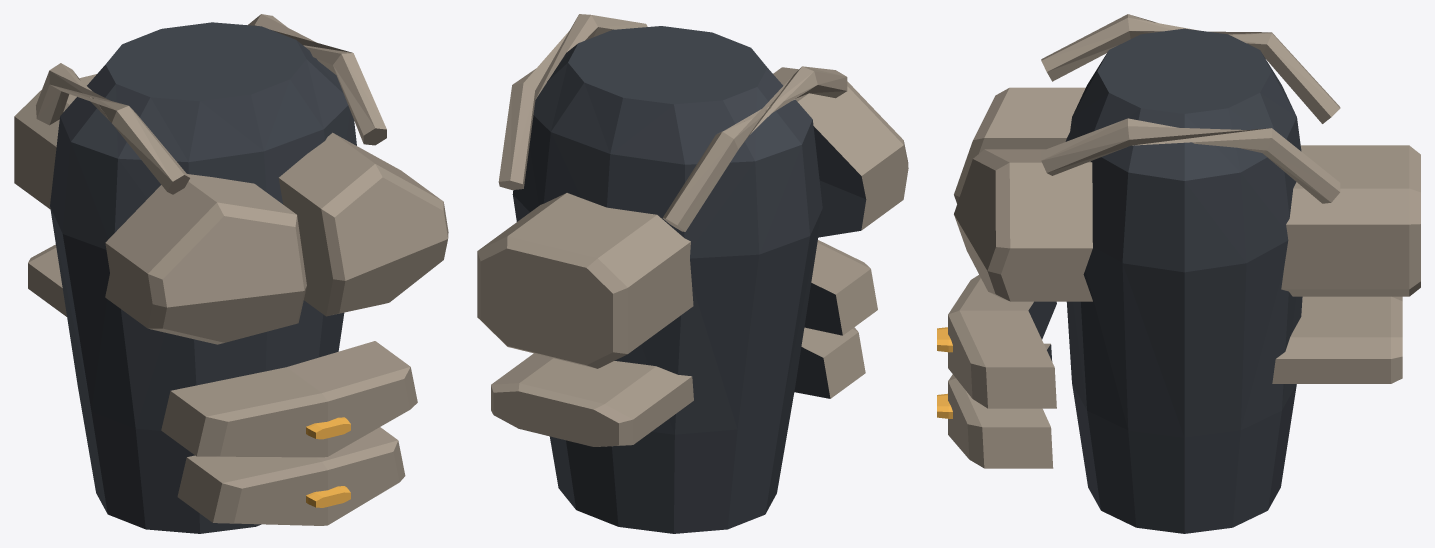
Rendered from torso_light.glb.
3 renders of one model, left to right at view 1: azimuth 30°, elevation 25°; view 2: azimuth 150°, elevation 25°; view 3: azimuth 270°, elevation 25°, orthographic. The views are drawn at different scales.
Visible parts, largest first — view 1: torso_light; view 2: torso_light; view 3: torso_light.
Part boxes in pixels (x1=…): torso_light: x1=14, y1=14, x2=448, y2=533; torso_light: x1=477, y1=14, x2=908, y2=533; torso_light: x1=937, y1=14, x2=1420, y2=533.
Bounding box in the file's own units: 0.7224 × 1.01 × 1.05.
